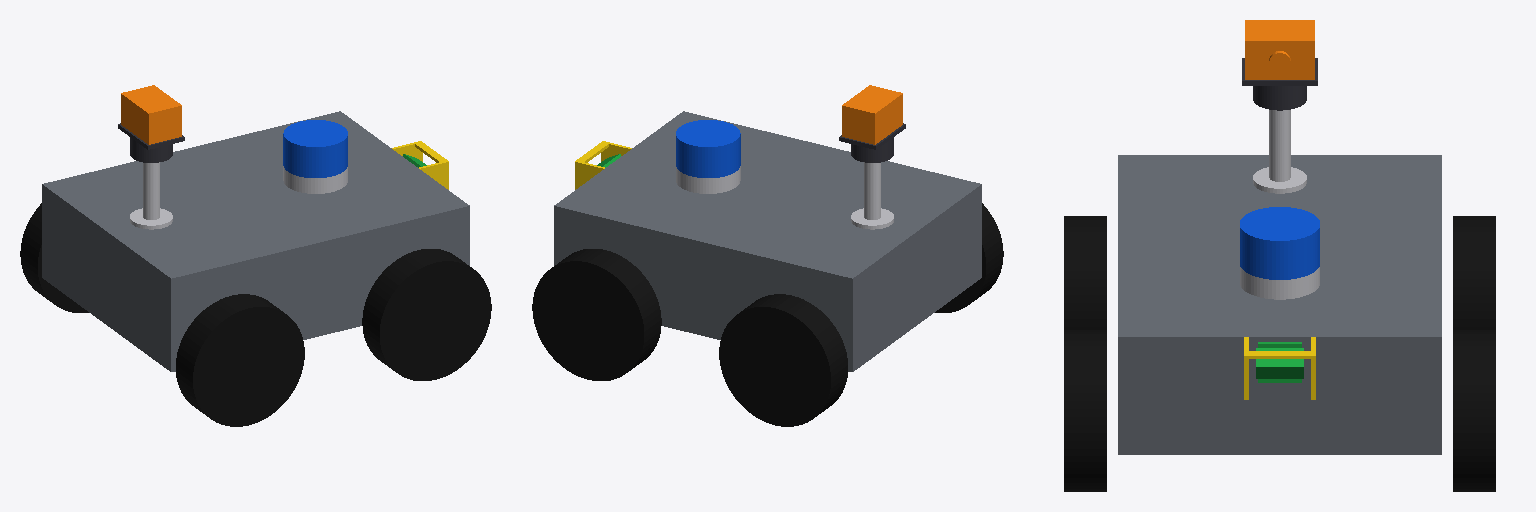
robot.urdf — hsr:
<?xml version="1.0" ?>
<!-- =================================================================================== -->
<!-- |    This document was autogenerated by xacro from /home/claude/Simulation/hsr_description/urdf/hsr.urdf.xacro | -->
<!-- |    EDITING THIS FILE BY HAND IS NOT RECOMMENDED                                 | -->
<!-- =================================================================================== -->
<!--
  Hazardous Environment Search Robot (HSR) - robot description
  UCF Intro to Robotics group project.

  Source: approved SOLIDWORKS assembly CAD/Assembly/Hazardous_Environment_Search_Robot.SLDASM
  Frames: X forward, Y left, Z up (REP-103). Units: SI.
  base_footprint / base_link origin = chassis centre in X/Y, at ground level (Z = 0),
  identical to the CAD assembly origin, so every CAD coordinate maps 1:1 (mm -> m).

  Moving joints (5): 4 x continuous wheel joints, 1 x revolute camera pan joint.
  Fixed parts merged into base_link: chassis, LiDAR mount, camera mast, front sensor guard.
  Sensors keep their own links/frames so TF and topic frame_ids are meaningful.

  Numeric values live in hsr_properties.xacro (generated; tagged [CAD] or [ESTIMATE]).
  Gazebo-specific sensors/plugins/friction live in hsr.gazebo.xacro.
-->
<robot name="hsr">
  <!-- kg*m^2 about CoM -->
  <!-- [CAD] -->
  <!-- [ESTIMATE] already folded into base_* values above -->
  <!-- ===== Materials (visual only) ===== -->
  <material name="chassis_grey">
    <color rgba="0.45 0.47 0.50 1"/>
  </material>
  <material name="tyre_black">
    <color rgba="0.12 0.12 0.12 1"/>
  </material>
  <material name="alu_silver">
    <color rgba="0.80 0.80 0.82 1"/>
  </material>
  <material name="lidar_blue">
    <color rgba="0.10 0.40 0.90 1"/>
  </material>
  <material name="pan_dark">
    <color rgba="0.25 0.25 0.28 1"/>
  </material>
  <material name="camera_orange">
    <color rgba="1.00 0.55 0.10 1"/>
  </material>
  <material name="range_green">
    <color rgba="0.15 0.70 0.30 1"/>
  </material>
  <material name="guard_yellow">
    <color rgba="1.00 0.85 0.10 1"/>
  </material>
  <!-- ===== Root frame (REP-105: ground projection of the robot) ===== -->
  <link name="base_footprint"/>
  <joint name="base_footprint_joint" type="fixed">
    <parent link="base_footprint"/>
    <child link="base_link"/>
    <origin rpy="0 0 0" xyz="0 0 0"/>
  </joint>
  <!-- ===== base_link: chassis + LiDAR mount + camera mast + sensor guard (rigid) ===== -->
  <link name="base_link">
    <inertial>
      <origin rpy="0 0 0" xyz="0.00260489433 -5.13935256e-18 0.119233494"/>
      <mass value="6.10375348"/>
      <inertia ixx="0.0612932103" ixy="-2.04189439e-21" ixz="-0.000604329522" iyy="0.10212052" iyz="-1.12840866e-17" izz="0.138815591"/>
    </inertial>
    <visual name="chassis_visual">
      <origin rpy="0 0 0" xyz="0 0 0"/>
      <geometry>
        <mesh filename="package://hsr_description/meshes/chassis.stl"/>
      </geometry>
      <material name="chassis_grey"/>
    </visual>
    <visual name="lidar_mount_visual">
      <origin rpy="0 0 0" xyz="0.08 0 0.185"/>
      <geometry>
        <mesh filename="package://hsr_description/meshes/lidar_mount.stl"/>
      </geometry>
      <material name="alu_silver"/>
    </visual>
    <visual name="camera_mast_visual">
      <origin rpy="0 0 0" xyz="-0.14 0 0.185"/>
      <geometry>
        <mesh filename="package://hsr_description/meshes/camera_mast.stl"/>
      </geometry>
      <material name="alu_silver"/>
    </visual>
    <visual name="front_sensor_guard_visual">
      <origin rpy="0 0 0" xyz="0.2 0 0.16"/>
      <geometry>
        <mesh filename="package://hsr_description/meshes/front_sensor_guard.stl"/>
      </geometry>
      <material name="guard_yellow"/>
    </visual>
    <!-- Collision: simple primitives matching CAD envelopes -->
    <collision name="chassis_collision">
      <origin rpy="0 0 0" xyz="0 0 0.125"/>
      <geometry>
        <box size="0.4 0.3 0.12"/>
      </geometry>
    </collision>
    <collision name="lidar_mount_collision">
      <origin rpy="0 0 0" xyz="0.08 0 0.195"/>
      <geometry>
        <cylinder length="0.02" radius="0.0375"/>
      </geometry>
    </collision>
    <collision name="camera_mast_collision">
      <origin rpy="0 0 0" xyz="-0.14 0 0.2275"/>
      <geometry>
        <cylinder length="0.085" radius="0.01"/>
      </geometry>
    </collision>
    <collision name="front_guard_collision">
      <!-- solid envelope of the guard; also encloses the distance sensor body -->
      <origin rpy="0 0 0" xyz="0.22 0 0.1625"/>
      <geometry>
        <box size="0.04 0.066 0.045"/>
      </geometry>
    </collision>
  </link>
  <link name="front_left_wheel_link">
    <inertial>
      <origin rpy="0 0 0" xyz="0 0 1.60585019e-18"/>
      <mass value="0.678584013"/>
      <inertia ixx="0.00104473664" ixy="-1.96701294e-36" ixz="0" iyy="0.00190851754" iyz="0" izz="0.00104473664"/>
    </inertial>
    <visual>
      <origin rpy="0 0 0" xyz="0 0 0"/>
      <geometry>
        <mesh filename="package://hsr_description/meshes/wheel.stl"/>
      </geometry>
      <material name="tyre_black"/>
    </visual>
    <collision>
      <!-- URDF cylinders are along Z; roll 90 deg puts the axis on Y -->
      <origin rpy="1.5707963267948966 0 0" xyz="0 0 0"/>
      <geometry>
        <cylinder length="0.04" radius="0.075"/>
      </geometry>
    </collision>
  </link>
  <joint name="front_left_wheel_joint" type="continuous">
    <parent link="base_link"/>
    <child link="front_left_wheel_link"/>
    <origin rpy="0 0 0" xyz="0.125 0.18 0.075"/>
    <axis xyz="0 1 0"/>
    <limit effort="5" velocity="13.3"/>
    <dynamics damping="0.01" friction="0"/>
  </joint>
  <link name="front_right_wheel_link">
    <inertial>
      <origin rpy="0 0 0" xyz="0 0 1.60585019e-18"/>
      <mass value="0.678584013"/>
      <inertia ixx="0.00104473664" ixy="-1.96701294e-36" ixz="0" iyy="0.00190851754" iyz="0" izz="0.00104473664"/>
    </inertial>
    <visual>
      <origin rpy="0 0 0" xyz="0 0 0"/>
      <geometry>
        <mesh filename="package://hsr_description/meshes/wheel.stl"/>
      </geometry>
      <material name="tyre_black"/>
    </visual>
    <collision>
      <!-- URDF cylinders are along Z; roll 90 deg puts the axis on Y -->
      <origin rpy="1.5707963267948966 0 0" xyz="0 0 0"/>
      <geometry>
        <cylinder length="0.04" radius="0.075"/>
      </geometry>
    </collision>
  </link>
  <joint name="front_right_wheel_joint" type="continuous">
    <parent link="base_link"/>
    <child link="front_right_wheel_link"/>
    <origin rpy="0 0 0" xyz="0.125 -0.18 0.075"/>
    <axis xyz="0 1 0"/>
    <limit effort="5" velocity="13.3"/>
    <dynamics damping="0.01" friction="0"/>
  </joint>
  <link name="rear_left_wheel_link">
    <inertial>
      <origin rpy="0 0 0" xyz="0 0 1.60585019e-18"/>
      <mass value="0.678584013"/>
      <inertia ixx="0.00104473664" ixy="-1.96701294e-36" ixz="0" iyy="0.00190851754" iyz="0" izz="0.00104473664"/>
    </inertial>
    <visual>
      <origin rpy="0 0 0" xyz="0 0 0"/>
      <geometry>
        <mesh filename="package://hsr_description/meshes/wheel.stl"/>
      </geometry>
      <material name="tyre_black"/>
    </visual>
    <collision>
      <!-- URDF cylinders are along Z; roll 90 deg puts the axis on Y -->
      <origin rpy="1.5707963267948966 0 0" xyz="0 0 0"/>
      <geometry>
        <cylinder length="0.04" radius="0.075"/>
      </geometry>
    </collision>
  </link>
  <joint name="rear_left_wheel_joint" type="continuous">
    <parent link="base_link"/>
    <child link="rear_left_wheel_link"/>
    <origin rpy="0 0 0" xyz="-0.125 0.18 0.075"/>
    <axis xyz="0 1 0"/>
    <limit effort="5" velocity="13.3"/>
    <dynamics damping="0.01" friction="0"/>
  </joint>
  <link name="rear_right_wheel_link">
    <inertial>
      <origin rpy="0 0 0" xyz="0 0 1.60585019e-18"/>
      <mass value="0.678584013"/>
      <inertia ixx="0.00104473664" ixy="-1.96701294e-36" ixz="0" iyy="0.00190851754" iyz="0" izz="0.00104473664"/>
    </inertial>
    <visual>
      <origin rpy="0 0 0" xyz="0 0 0"/>
      <geometry>
        <mesh filename="package://hsr_description/meshes/wheel.stl"/>
      </geometry>
      <material name="tyre_black"/>
    </visual>
    <collision>
      <!-- URDF cylinders are along Z; roll 90 deg puts the axis on Y -->
      <origin rpy="1.5707963267948966 0 0" xyz="0 0 0"/>
      <geometry>
        <cylinder length="0.04" radius="0.075"/>
      </geometry>
    </collision>
  </link>
  <joint name="rear_right_wheel_joint" type="continuous">
    <parent link="base_link"/>
    <child link="rear_right_wheel_link"/>
    <origin rpy="0 0 0" xyz="-0.125 -0.18 0.075"/>
    <axis xyz="0 1 0"/>
    <limit effort="5" velocity="13.3"/>
    <dynamics damping="0.01" friction="0"/>
  </joint>
  <!-- ===== 2D LiDAR ===== -->
  <link name="lidar_link">
    <inertial>
      <origin rpy="0 0 0" xyz="-7.30907219e-19 0 0.02"/>
      <mass value="0.180248878"/>
      <inertia ixx="8.74019301e-05" ixy="0" ixz="0" iyy="8.74019301e-05" iyz="-2.61243906e-37" izz="0.000126737493"/>
    </inertial>
    <visual>
      <origin rpy="0 0 0" xyz="0 0 0"/>
      <geometry>
        <mesh filename="package://hsr_description/meshes/lidar.stl"/>
      </geometry>
      <material name="lidar_blue"/>
    </visual>
    <collision>
      <origin rpy="0 0 0" xyz="0 0 0.02"/>
      <geometry>
        <cylinder length="0.04" radius="0.0375"/>
      </geometry>
    </collision>
  </link>
  <joint name="lidar_joint" type="fixed">
    <parent link="base_link"/>
    <child link="lidar_link"/>
    <origin rpy="0 0 0" xyz="0.08 0 0.205"/>
  </joint>
  <!-- Scan plane frame: Z = deck_z + standoff + scan_offset = 0.225 m -->
  <link name="laser_frame"/>
  <joint name="laser_frame_joint" type="fixed">
    <parent link="lidar_link"/>
    <child link="laser_frame"/>
    <origin rpy="0 0 0" xyz="0 0 0.02"/>
  </joint>
  <!-- ===== Camera pan head (revolute about Z) ===== -->
  <link name="camera_pan_link">
    <inertial>
      <origin rpy="0 0 0" xyz="-3.97519433e-19 1.98759716e-19 0.0164421881"/>
      <mass value="0.0679191329"/>
      <inertia ixx="2.0717736e-05" ixy="-2.6366382e-22" ixz="1.71993166e-22" iyy="1.7147736e-05" iyz="1.24934473e-22" izz="2.6654104e-05"/>
    </inertial>
    <visual>
      <origin rpy="0 0 0" xyz="0 0 0"/>
      <geometry>
        <mesh filename="package://hsr_description/meshes/camera_pan_head.stl"/>
      </geometry>
      <material name="pan_dark"/>
    </visual>
    <collision name="turntable_collision">
      <origin rpy="0 0 0" xyz="0 0 0.0125"/>
      <geometry>
        <cylinder length="0.025" radius="0.025"/>
      </geometry>
    </collision>
    <collision name="seat_plate_collision">
      <origin rpy="0 0 0" xyz="0 0 0.0275"/>
      <geometry>
        <box size="0.05 0.07 0.005"/>
      </geometry>
    </collision>
  </link>
  <joint name="camera_pan_joint" type="revolute">
    <parent link="base_link"/>
    <child link="camera_pan_link"/>
    <origin rpy="0 0 0" xyz="-0.14 0 0.27"/>
    <axis xyz="0 0 1"/>
    <limit effort="1" lower="-3.14159265" upper="3.14159265" velocity="2"/>
    <dynamics damping="0.05"/>
  </joint>
  <!-- ===== Camera (rides on pan head) ===== -->
  <link name="camera_link">
    <inertial>
      <origin rpy="0 0 0" xyz="0.000331193763 1.60005346e-36 2.49061299e-20"/>
      <mass value="0.120942212"/>
      <inertia ixx="5.80097356e-05" ixy="-4.28997448e-39" ixz="-2.23085068e-22" iyy="3.70821348e-05" iyz="-1.72794721e-21" izz="6.31877598e-05"/>
    </inertial>
    <visual>
      <origin rpy="0 0 0" xyz="0 0 0"/>
      <geometry>
        <mesh filename="package://hsr_description/meshes/camera.stl"/>
      </geometry>
      <material name="camera_orange"/>
    </visual>
    <collision>
      <origin rpy="0 0 0" xyz="0 0 0"/>
      <geometry>
        <box size="0.045 0.065 0.04"/>
      </geometry>
    </collision>
  </link>
  <joint name="camera_joint" type="fixed">
    <parent link="camera_pan_link"/>
    <child link="camera_link"/>
    <!-- camera body centre sits camera_H/2 above the seat plate -->
    <origin rpy="0 0 0" xyz="0 0 0.05"/>
  </joint>
  <!-- ROS optical convention (Z forward, X right, Y down) at the lens face -->
  <link name="camera_optical_frame"/>
  <joint name="camera_optical_joint" type="fixed">
    <parent link="camera_link"/>
    <child link="camera_optical_frame"/>
    <origin rpy="-1.5707963267948966 0 -1.5707963267948966" xyz="0.0275 0 0"/>
  </joint>
  <!-- ===== Front distance sensor (body tilted 30 deg down in CAD) ===== -->
  <link name="front_range_link">
    <inertial>
      <origin rpy="0 0 0" xyz="-0.0121696877 -4.74506619e-19 0.00443717098"/>
      <mass value="0.0248935182"/>
      <inertia ixx="5.51442153e-06" ixy="-7.37729581e-25" ixz="-2.3891345e-07" iyy="3.01057272e-06" iyz="-1.31809396e-22" izz="5.5649727e-06"/>
    </inertial>
    <visual>
      <origin rpy="0 0 0" xyz="0 0 0"/>
      <geometry>
        <mesh filename="package://hsr_description/meshes/front_range_sensor.stl"/>
      </geometry>
      <material name="range_green"/>
    </visual>
    <!-- no separate collision: enclosed by base_link front_guard_collision -->
  </link>
  <joint name="front_range_joint" type="fixed">
    <parent link="base_link"/>
    <child link="front_range_link"/>
    <origin rpy="0 0 0" xyz="0.225 0 0.16"/>
  </joint>
  <!-- Beam frame: +X along the beam, pitched 30 deg below horizontal (+pitch = nose down) -->
  <link name="front_range_beam_frame"/>
  <joint name="front_range_beam_joint" type="fixed">
    <parent link="front_range_link"/>
    <child link="front_range_beam_frame"/>
    <origin rpy="0 0.5235987755982988 0" xyz="0 0 0"/>
  </joint>
  <gazebo reference="front_left_wheel_link">
    <mu1>1</mu1>
    <mu2>0.8</mu2>
    <kp>1000000</kp>
    <kd>100</kd>
    <minDepth>0.001</minDepth>
  </gazebo>
  <gazebo reference="front_right_wheel_link">
    <mu1>1</mu1>
    <mu2>0.8</mu2>
    <kp>1000000</kp>
    <kd>100</kd>
    <minDepth>0.001</minDepth>
  </gazebo>
  <gazebo reference="rear_left_wheel_link">
    <mu1>1</mu1>
    <mu2>0.8</mu2>
    <kp>1000000</kp>
    <kd>100</kd>
    <minDepth>0.001</minDepth>
  </gazebo>
  <gazebo reference="rear_right_wheel_link">
    <mu1>1</mu1>
    <mu2>0.8</mu2>
    <kp>1000000</kp>
    <kd>100</kd>
    <minDepth>0.001</minDepth>
  </gazebo>
  <gazebo reference="base_link">
    <mu1>0.4</mu1>
    <mu2>0.4</mu2>
  </gazebo>
  <!-- ===== 2D LiDAR: scan plane at laser_frame (Z = 0.225 m) ===== -->
  <gazebo reference="laser_frame">
    <sensor name="lidar" type="gpu_lidar">
      <gz_frame_id>laser_frame</gz_frame_id>
      <topic>/scan</topic>
      <update_rate>10</update_rate>
      <always_on>true</always_on>
      <visualize>false</visualize>
      <lidar>
        <scan>
          <horizontal>
            <samples>360</samples>
            <resolution>1</resolution>
            <!-- exactly 1 deg spacing, no duplicated beam at +/-180 deg -->
            <min_angle>-3.14159265</min_angle>
            <max_angle>3.12413936</max_angle>
          </horizontal>
          <vertical>
            <samples>1</samples>
            <resolution>1</resolution>
            <min_angle>0</min_angle>
            <max_angle>0</max_angle>
          </vertical>
        </scan>
        <range>
          <min>0.15</min>
          <max>12.0</max>
          <resolution>0.01</resolution>
        </range>
        <noise>
          <type>gaussian</type>
          <mean>0.0</mean>
          <stddev>0.01</stddev>
        </noise>
      </lidar>
    </sensor>
  </gazebo>
  <!-- ===== Pan camera (looks along camera_link +X) ===== -->
  <gazebo reference="camera_link">
    <sensor name="camera" type="camera">
      <gz_frame_id>camera_optical_frame</gz_frame_id>
      <topic>/camera/image_raw</topic>
      <update_rate>15</update_rate>
      <always_on>true</always_on>
      <visualize>false</visualize>
      <pose>0.0275 0 0 0 0 0</pose>
      <camera name="pan_camera">
        <camera_info_topic>/camera/camera_info</camera_info_topic>
        <horizontal_fov>1.2217</horizontal_fov>
        <!-- 70 deg -->
        <image>
          <width>640</width>
          <height>480</height>
          <format>R8G8B8</format>
        </image>
        <clip>
          <near>0.05</near>
          <far>30.0</far>
        </clip>
        <noise>
          <type>gaussian</type>
          <mean>0.0</mean>
          <stddev>0.007</stddev>
        </noise>
      </camera>
    </sensor>
  </gazebo>
  <!-- ===== Front distance sensor: narrow cone along front_range_beam_frame +X (30 deg down) =====
       Modelled as a 5-ray gpu_lidar spanning ~15 deg (ultrasonic/ToF-like). Publishes a
       5-sample LaserScan; take the minimum valid range as the distance reading. -->
  <gazebo reference="front_range_beam_frame">
    <sensor name="front_range" type="gpu_lidar">
      <gz_frame_id>front_range_beam_frame</gz_frame_id>
      <topic>/front_range/scan</topic>
      <update_rate>20</update_rate>
      <always_on>true</always_on>
      <visualize>false</visualize>
      <lidar>
        <scan>
          <horizontal>
            <samples>5</samples>
            <resolution>1</resolution>
            <min_angle>-0.1309</min_angle>
            <max_angle>0.1309</max_angle>
          </horizontal>
          <vertical>
            <samples>1</samples>
            <resolution>1</resolution>
            <min_angle>0</min_angle>
            <max_angle>0</max_angle>
          </vertical>
        </scan>
        <range>
          <min>0.02</min>
          <max>4.0</max>
          <resolution>0.005</resolution>
        </range>
        <noise>
          <type>gaussian</type>
          <mean>0.0</mean>
          <stddev>0.005</stddev>
        </noise>
      </lidar>
    </sensor>
  </gazebo>
  <!-- ===== Model plugins ===== -->
  <gazebo>
    <!-- Skid-steer drive: both wheels on each side driven together -->
    <plugin filename="gz-sim-diff-drive-system" name="gz::sim::systems::DiffDrive">
      <left_joint>front_left_wheel_joint</left_joint>
      <left_joint>rear_left_wheel_joint</left_joint>
      <right_joint>front_right_wheel_joint</right_joint>
      <right_joint>rear_right_wheel_joint</right_joint>
      <!-- effective (slip-calibrated) separation, not the physical 0.36 m track -->
      <wheel_separation>0.514</wheel_separation>
      <wheel_radius>0.075</wheel_radius>
      <max_linear_acceleration>1.0</max_linear_acceleration>
      <max_angular_acceleration>3.0</max_angular_acceleration>
      <max_linear_velocity>0.8</max_linear_velocity>
      <max_angular_velocity>2.0</max_angular_velocity>
      <topic>/cmd_vel</topic>
      <odom_topic>/odom</odom_topic>
      <tf_topic>/tf</tf_topic>
      <frame_id>odom</frame_id>
      <child_frame_id>base_footprint</child_frame_id>
      <odom_publisher_frequency>30</odom_publisher_frequency>
    </plugin>
    <!-- Publishes all joint positions/velocities (wheels + pan) -->
    <plugin filename="gz-sim-joint-state-publisher-system" name="gz::sim::systems::JointStatePublisher">
      <topic>/joint_states</topic>
    </plugin>
    <!-- Camera pan: send a target angle (rad) as gz.msgs.Double / std_msgs/Float64 -->
    <plugin filename="gz-sim-joint-position-controller-system" name="gz::sim::systems::JointPositionController">
      <joint_name>camera_pan_joint</joint_name>
      <topic>/camera_pan/cmd_pos</topic>
      <p_gain>3.0</p_gain>
      <i_gain>0.0</i_gain>
      <d_gain>0.05</d_gain>
      <cmd_max>1</cmd_max>
      <cmd_min>-1</cmd_min>
    </plugin>
  </gazebo>
</robot>

--- Facts derived from the render (not from the file) ---
3 views of the same robot in one strip: view 1: azimuth 30°, elevation 25°; view 2: azimuth 150°, elevation 25°; view 3: azimuth 270°, elevation 25° (orthographic).
Model hsr with 13 links and 12 joints (1 revolute, 4 continuous, 7 fixed), rooted at base_footprint, posed every joint at zero.
Visible links, largest first — view 1: base_link, front_right_wheel_link, rear_right_wheel_link, lidar_link, camera_link, rear_left_wheel_link, camera_pan_link; view 2: base_link, front_left_wheel_link, rear_left_wheel_link, lidar_link, camera_link, rear_right_wheel_link, camera_pan_link; view 3: base_link, front_left_wheel_link, front_right_wheel_link, lidar_link, rear_left_wheel_link, rear_right_wheel_link, camera_link, camera_pan_link, front_range_link.
Link boxes in pixels (bbox=[...]): base_link: bbox=[42, 111, 469, 371]; front_right_wheel_link: bbox=[362, 249, 491, 380]; rear_right_wheel_link: bbox=[176, 294, 304, 426]; lidar_link: bbox=[283, 120, 347, 177]; camera_link: bbox=[121, 85, 181, 144]; rear_left_wheel_link: bbox=[20, 203, 88, 312]; camera_pan_link: bbox=[118, 123, 184, 162]; base_link: bbox=[554, 111, 981, 371]; front_left_wheel_link: bbox=[532, 249, 661, 380]; rear_left_wheel_link: bbox=[719, 294, 847, 426]; lidar_link: bbox=[676, 120, 740, 177]; camera_link: bbox=[842, 85, 902, 144]; rear_right_wheel_link: bbox=[935, 203, 1003, 312]; camera_pan_link: bbox=[839, 123, 905, 162]; base_link: bbox=[1118, 110, 1441, 454]; front_left_wheel_link: bbox=[1453, 330, 1495, 491]; front_right_wheel_link: bbox=[1064, 330, 1106, 491]; lidar_link: bbox=[1240, 207, 1319, 279]; rear_left_wheel_link: bbox=[1453, 216, 1495, 329]; rear_right_wheel_link: bbox=[1064, 216, 1106, 329]; camera_link: bbox=[1245, 20, 1314, 79]; camera_pan_link: bbox=[1242, 58, 1317, 110]; front_range_link: bbox=[1256, 342, 1303, 382].
Bounding box of the posed robot: 0.44 × 0.4 × 0.34 m (x, y, z).
12 mesh visuals loaded from 9 distinct referenced files (9 binary STL).
